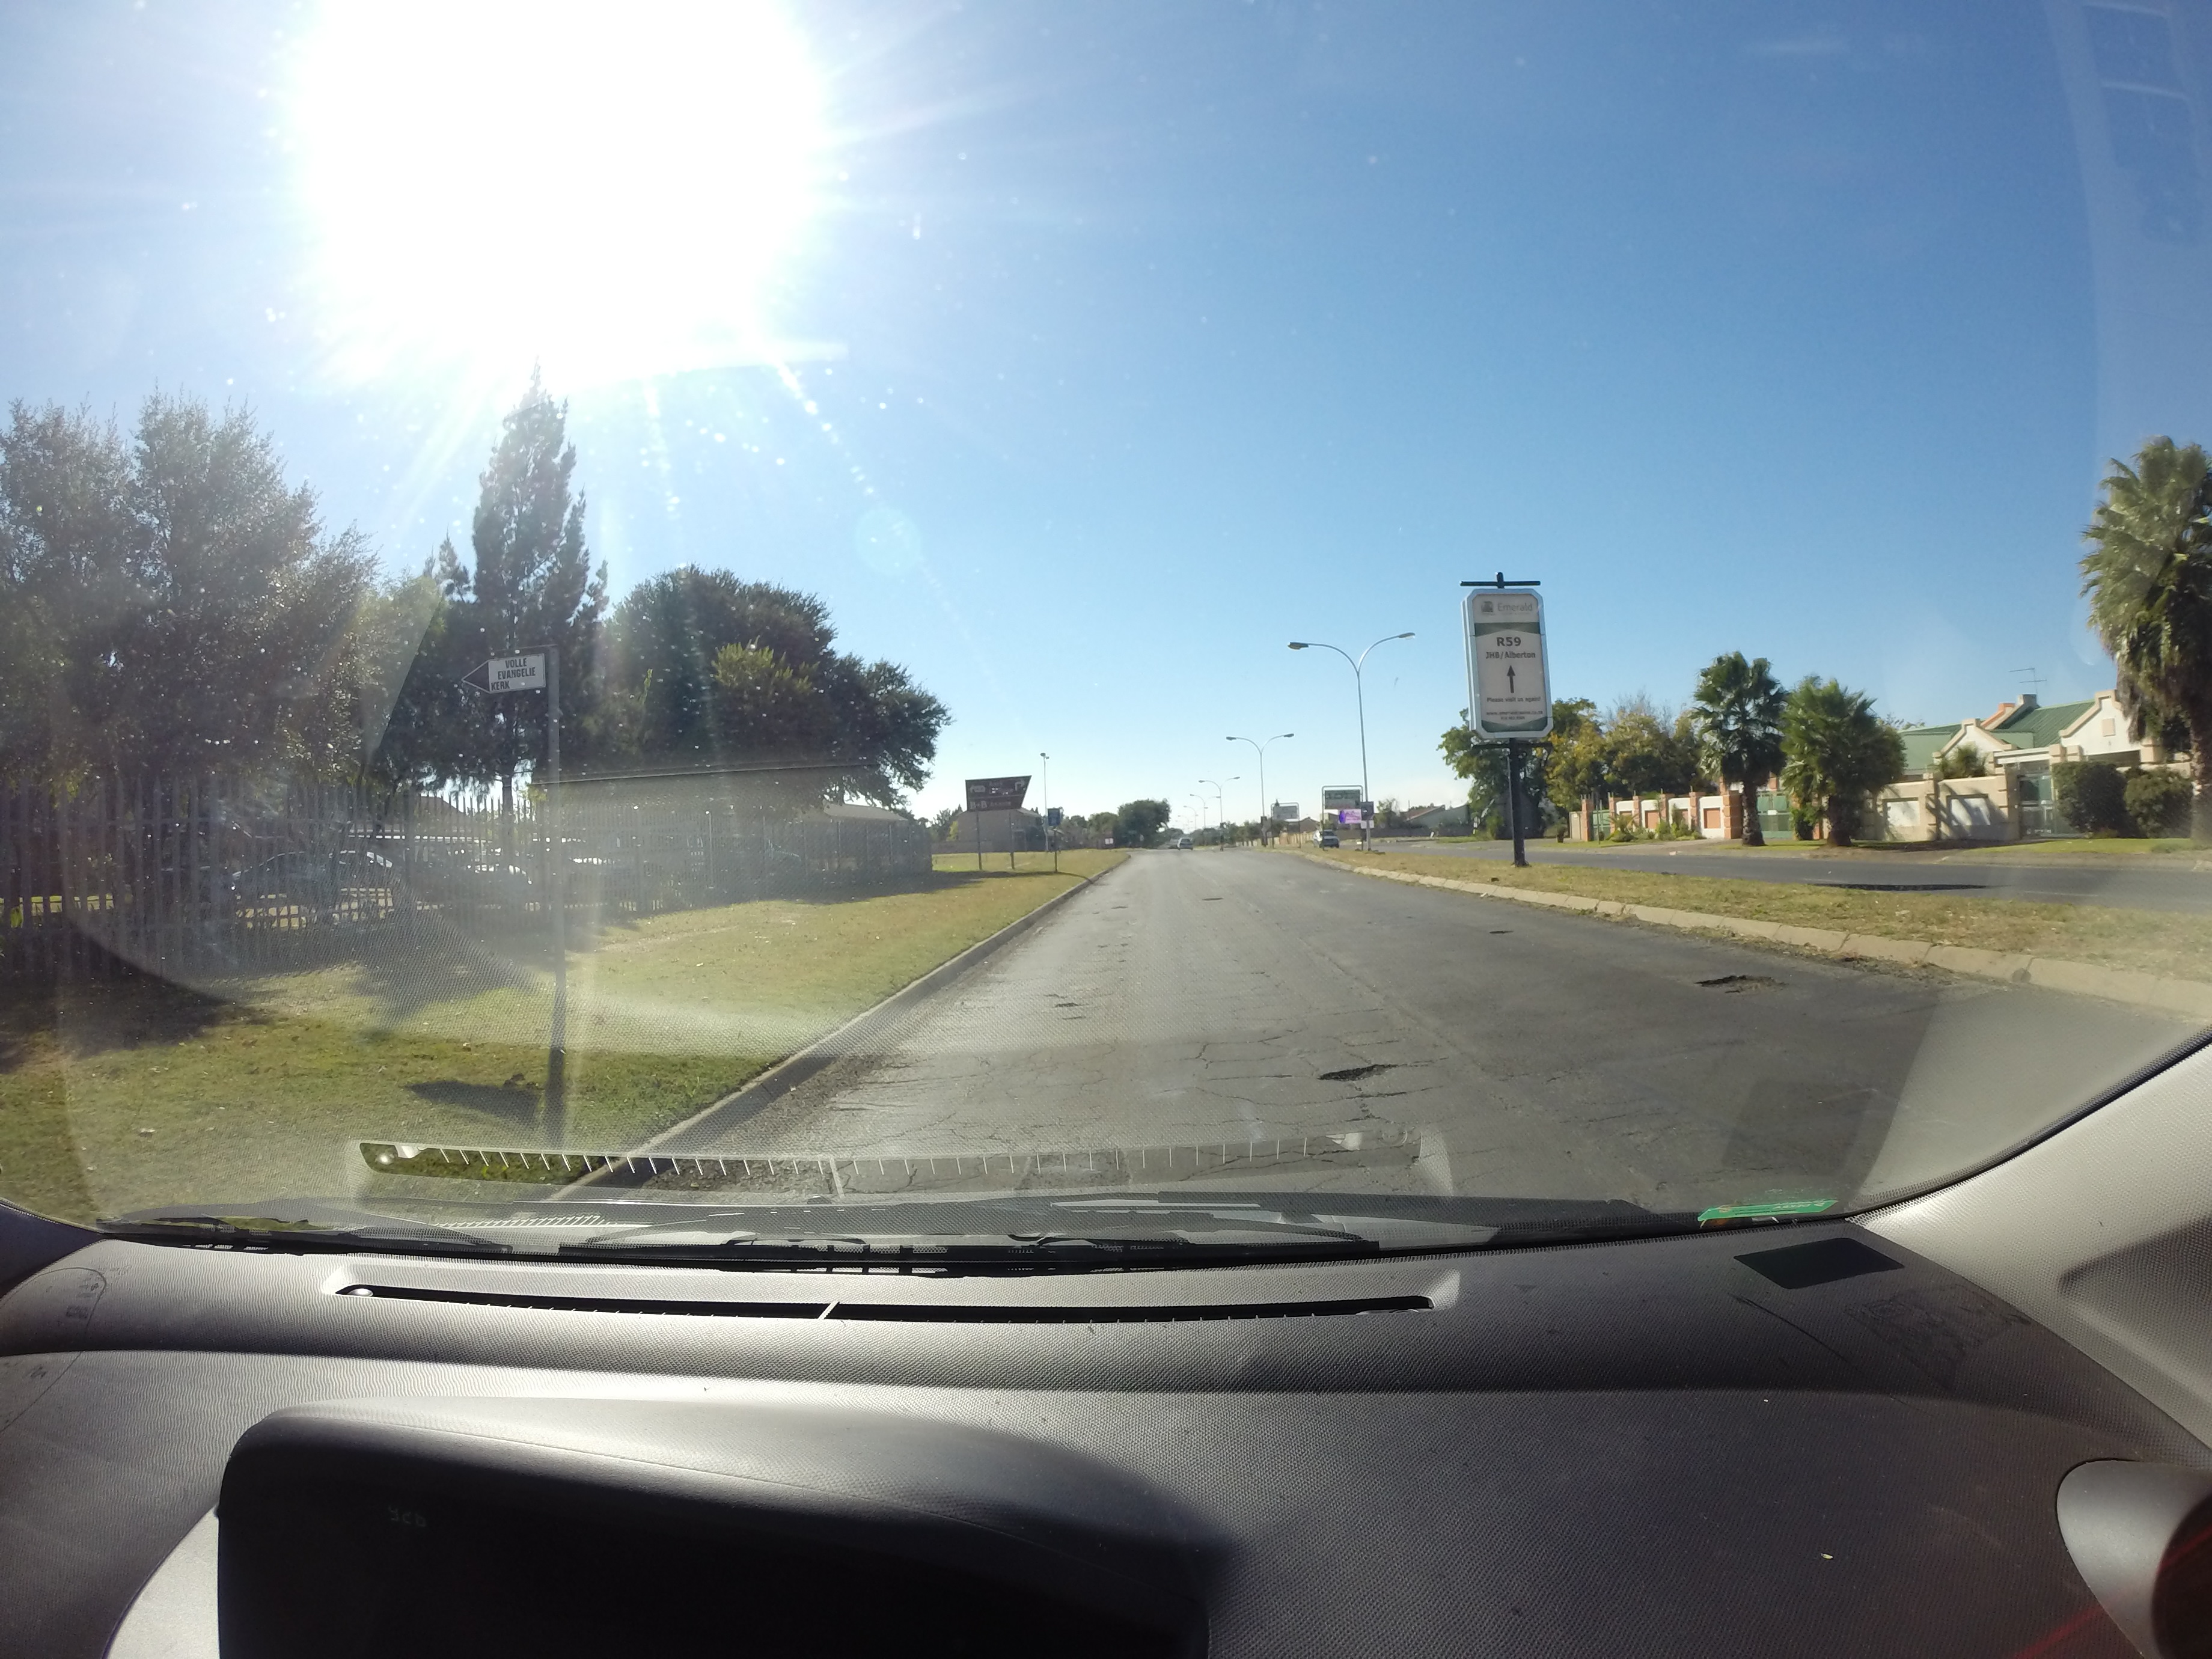pothole: (1332, 1032, 1468, 1093), (1700, 951, 1817, 1012)
